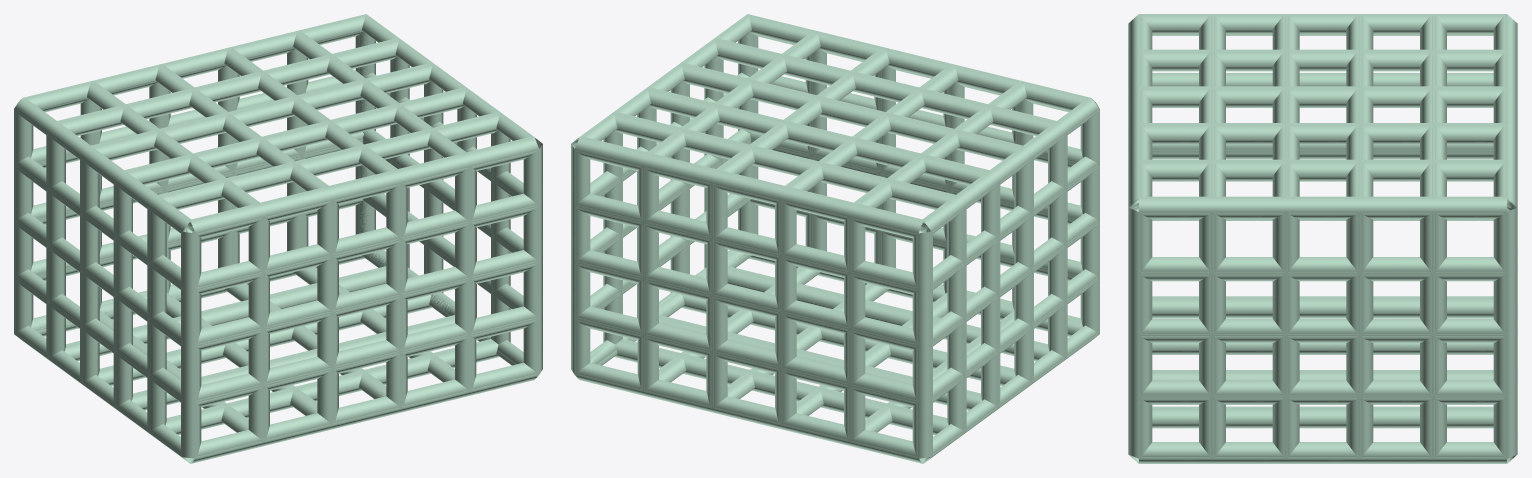
File: cage.fbx
3 views of the same model, side by side, from view 1: azimuth 30°, elevation 25°; view 2: azimuth 150°, elevation 25°; view 3: azimuth 270°, elevation 25° (orthographic). The views are drawn at different scales.
Visible parts, largest first — view 1: cage:Mesh; view 2: cage:Mesh; view 3: cage:Mesh.
Boxes of the visible parts, <box> form: cage:Mesh: <box>14,14,542,463</box>; cage:Mesh: <box>571,14,1099,463</box>; cage:Mesh: <box>1128,14,1517,463</box>.
Size of the model in its own units: 85.43 by 55 by 72.94.
